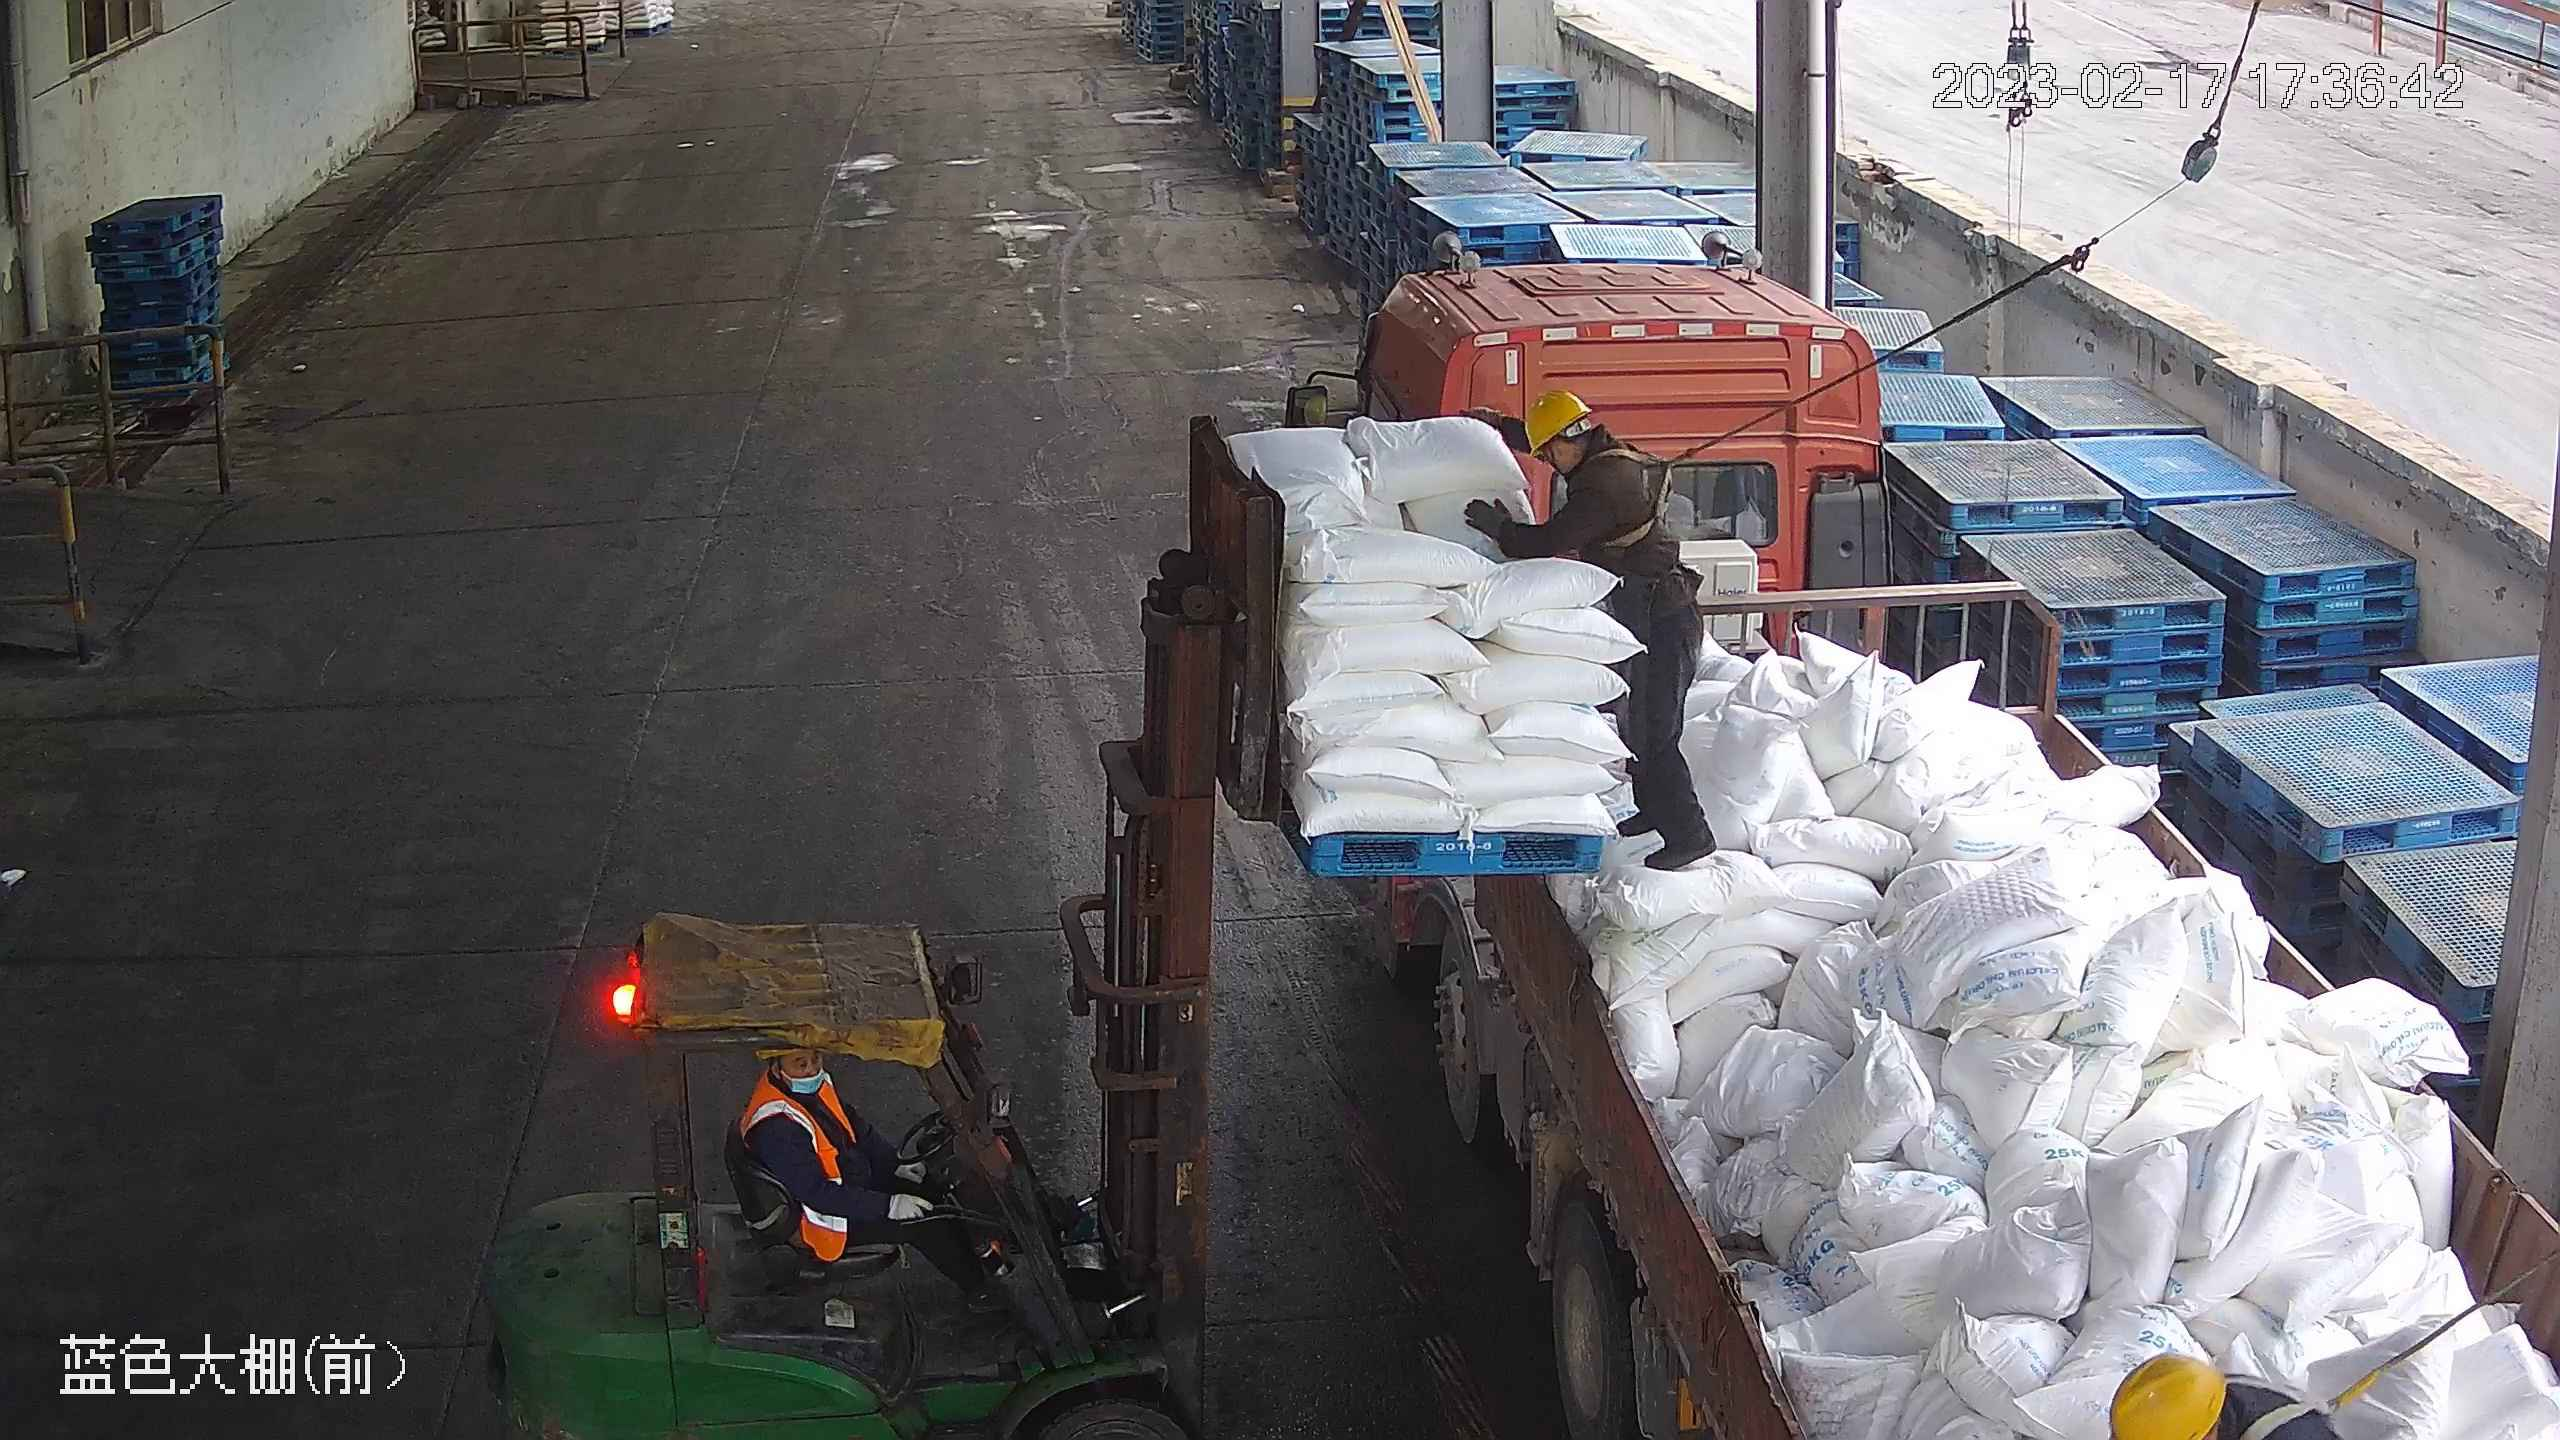belt: (1589, 439, 1701, 552), (2244, 1382, 2362, 1439)
head: (734, 1041, 872, 1175), (1523, 386, 1660, 518)
helmet: (2106, 1352, 2227, 1438), (1522, 385, 1595, 456)
people: (1466, 386, 1720, 871), (731, 1037, 979, 1338)
truck: (1279, 250, 2560, 1438)
